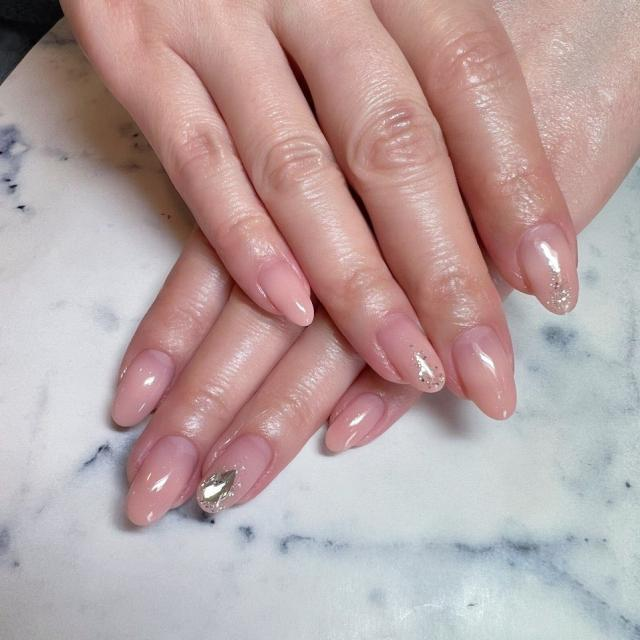Nail: (126, 435, 198, 525), (452, 326, 517, 420), (196, 434, 272, 512), (376, 312, 445, 393), (520, 224, 578, 315), (112, 349, 175, 426), (259, 258, 314, 326), (325, 394, 385, 451)
